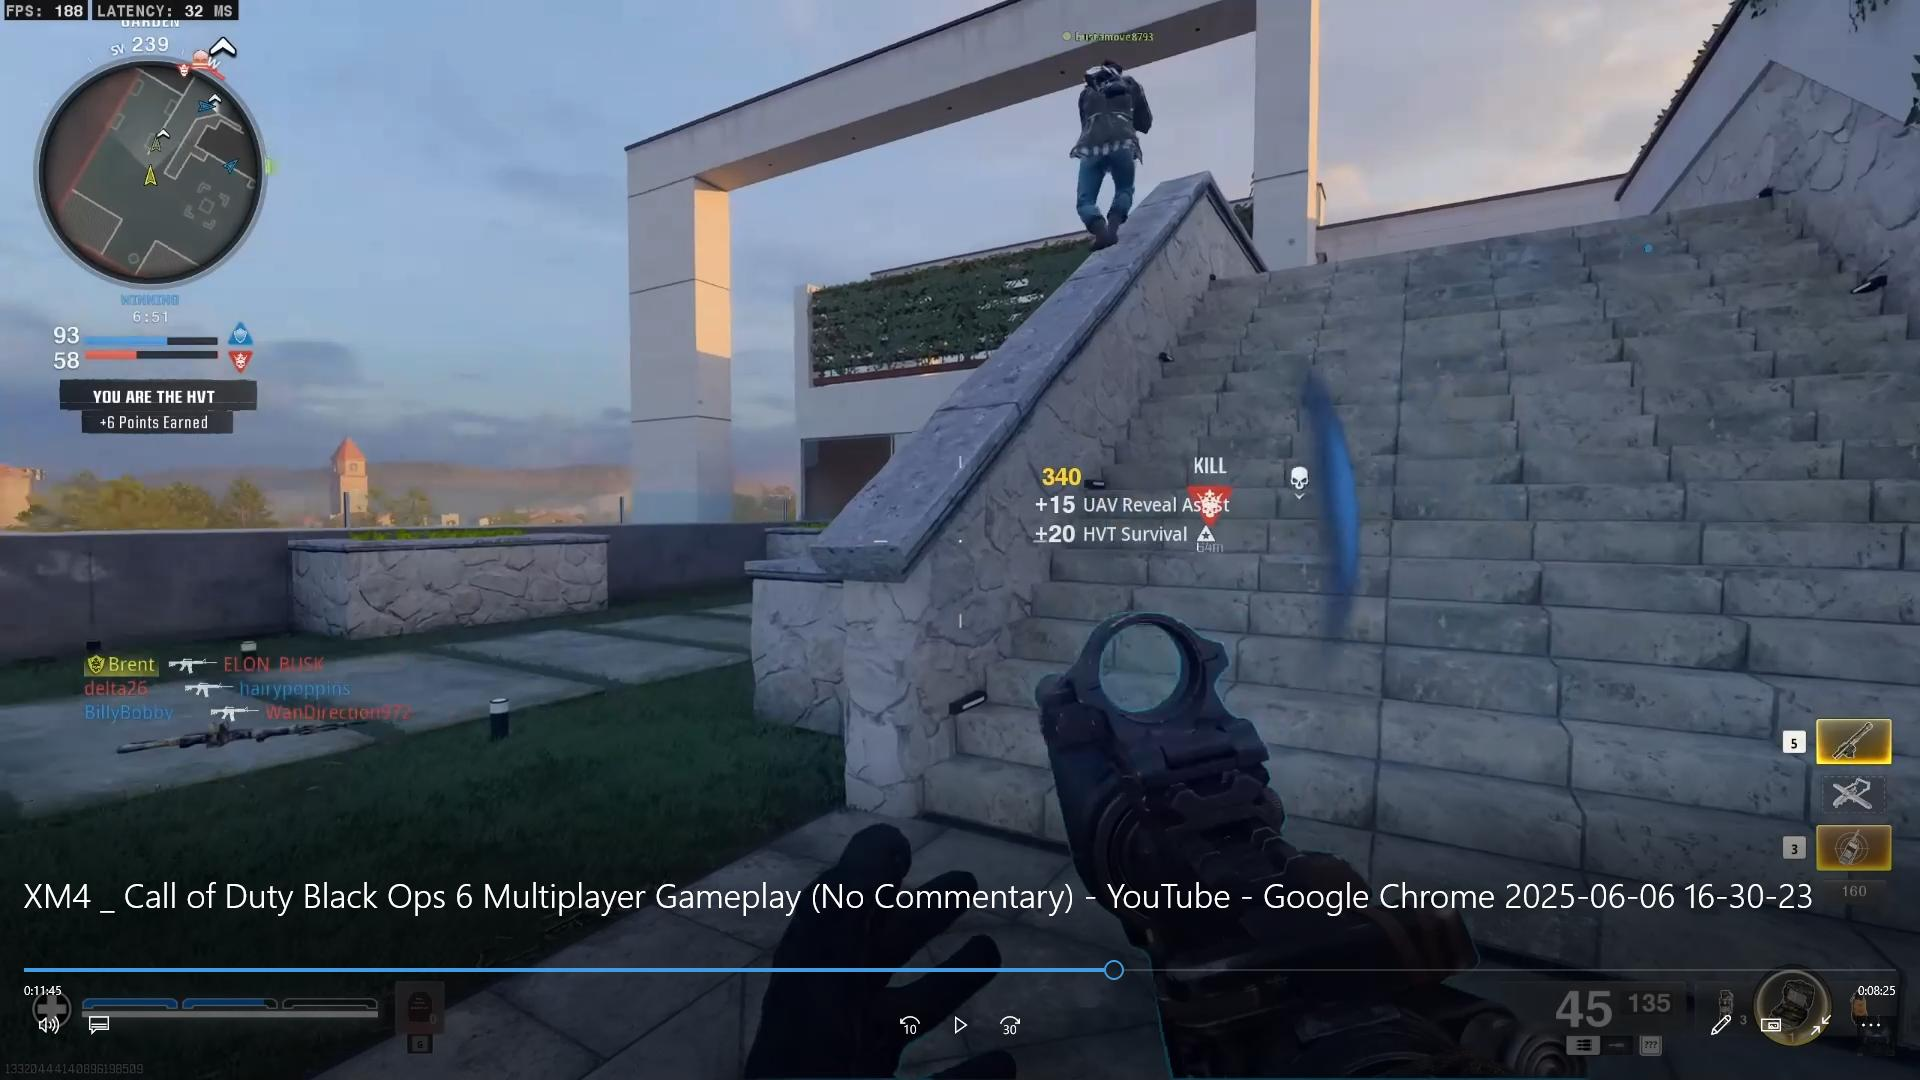Enemy: (1063, 54, 1151, 251)
